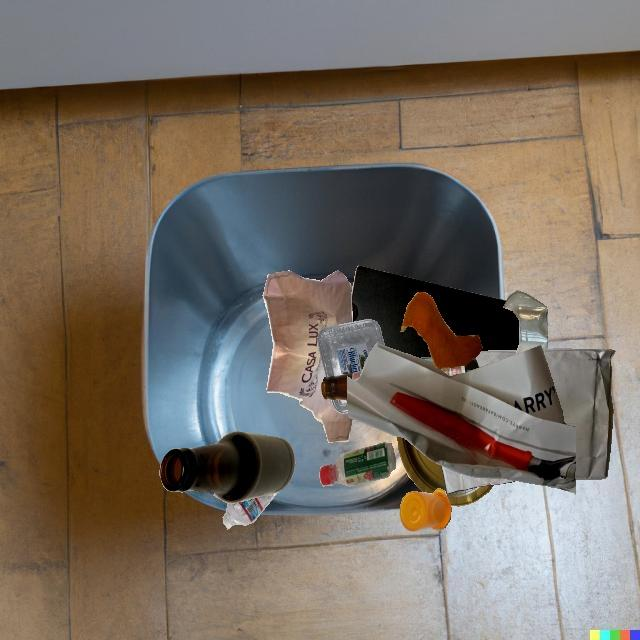biowaste: (401, 292, 482, 369)
cardboard: (351, 265, 520, 358)
glass: (159, 431, 295, 503), (347, 358, 475, 399), (503, 290, 548, 355), (321, 371, 362, 400)
paper: (347, 343, 576, 494), (263, 270, 353, 442), (544, 349, 615, 480), (397, 436, 493, 506), (441, 465, 515, 494)
plastic: (317, 319, 385, 377), (319, 443, 395, 486), (399, 488, 452, 532), (222, 491, 279, 529)
